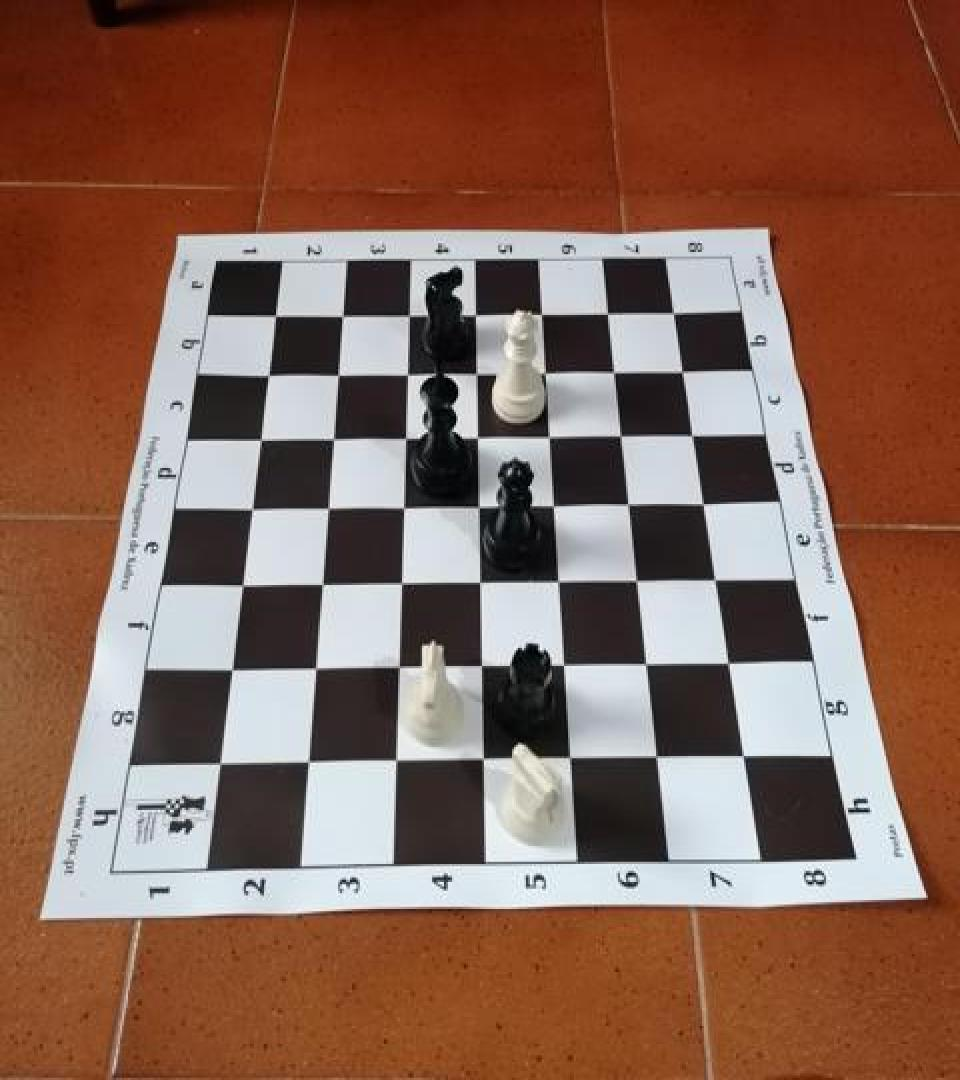xcorner: (214, 652, 246, 689), (468, 742, 500, 779), (659, 294, 691, 330), (592, 295, 624, 331), (525, 295, 557, 331), (458, 296, 490, 332), (391, 297, 423, 333), (324, 298, 356, 334), (257, 298, 289, 334), (668, 352, 700, 388), (599, 353, 631, 389), (529, 354, 561, 390), (459, 354, 491, 390), (389, 356, 421, 392), (319, 356, 351, 392), (250, 358, 282, 394), (679, 416, 711, 452), (606, 418, 638, 454), (533, 418, 565, 454), (461, 418, 493, 454), (388, 420, 420, 456), (315, 421, 347, 457), (242, 422, 274, 458), (691, 486, 723, 522), (614, 486, 646, 522), (538, 487, 570, 523), (462, 488, 494, 524), (386, 490, 418, 526), (310, 490, 342, 526), (233, 492, 265, 528), (703, 562, 735, 598), (623, 562, 655, 598), (544, 564, 576, 600), (464, 565, 496, 601), (384, 566, 416, 602), (304, 567, 336, 603), (224, 568, 256, 604), (717, 646, 749, 682), (633, 647, 665, 683), (550, 648, 582, 684), (466, 649, 498, 685), (382, 650, 414, 686), (298, 652, 330, 688), (732, 738, 764, 774), (644, 739, 676, 775), (556, 740, 588, 776), (380, 744, 412, 780), (291, 745, 323, 781), (203, 746, 235, 782)
